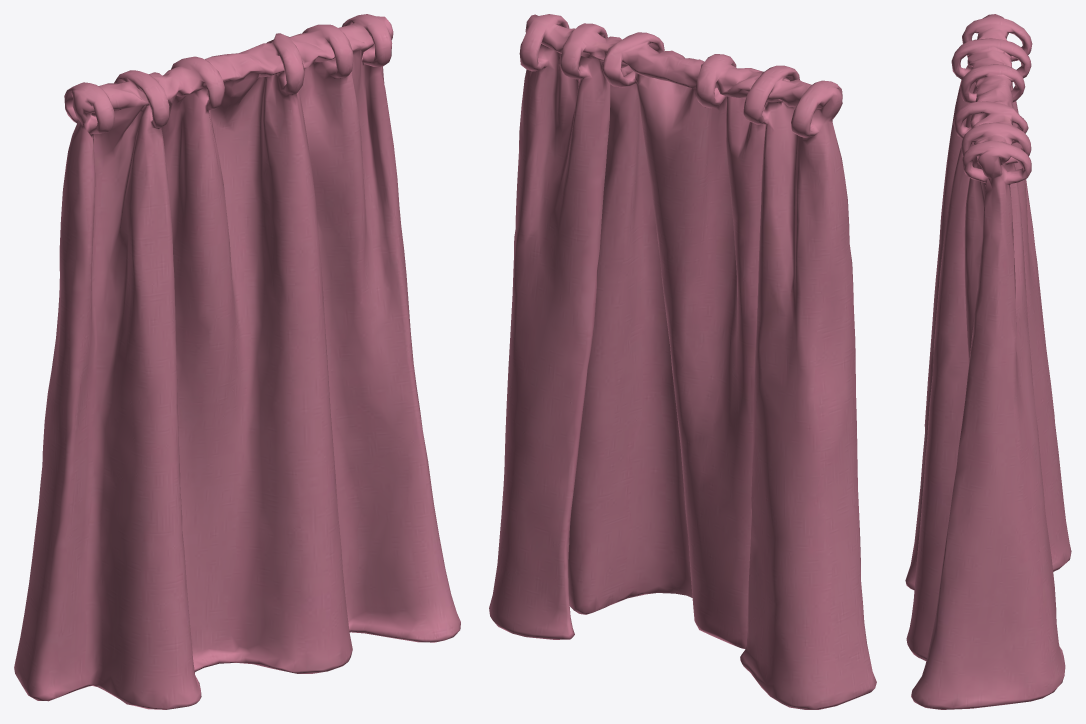
The model's file is bilik_curtain.glb.
3 renders of one model, left to right at view 1: azimuth 30°, elevation 25°; view 2: azimuth 150°, elevation 25°; view 3: azimuth 270°, elevation 25°, orthographic. The views are drawn at different scales.
Bounding box in the file's own units: 0.6884 × 0.9998 × 0.275.
1 material, 1 textured.
